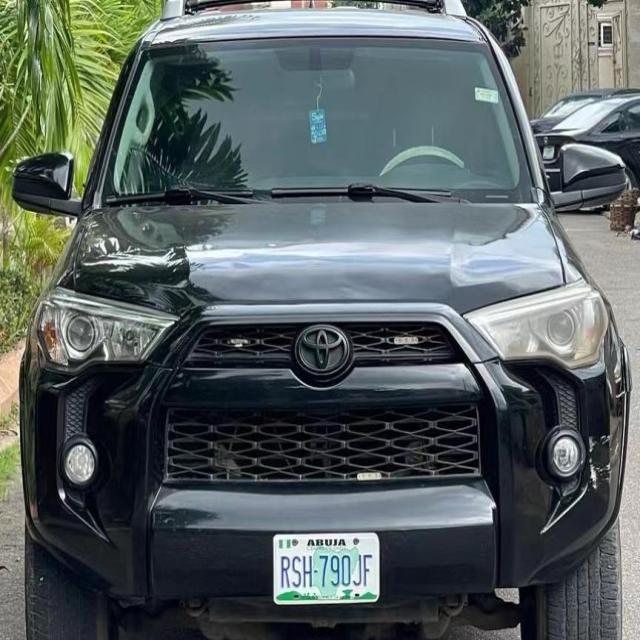Nigerian License Plate - vdataset benjamin-daria: (270, 530, 383, 606)
